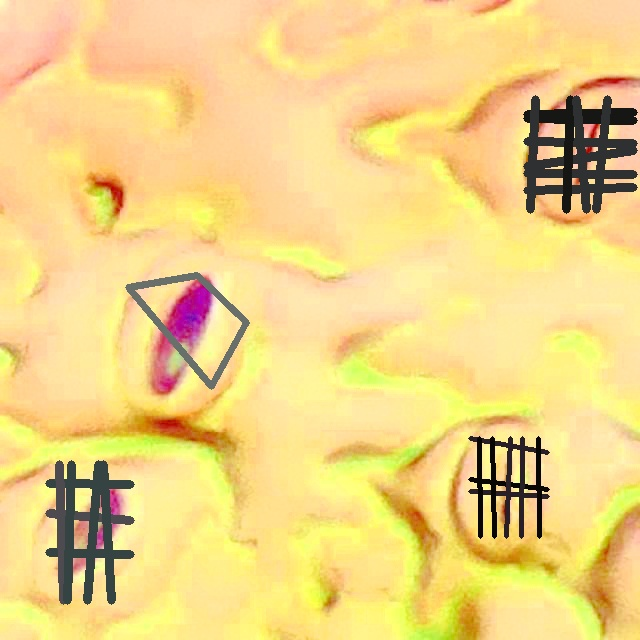close: (523, 95, 637, 213), (468, 436, 549, 538)
open: (125, 272, 249, 389), (45, 460, 134, 604)
